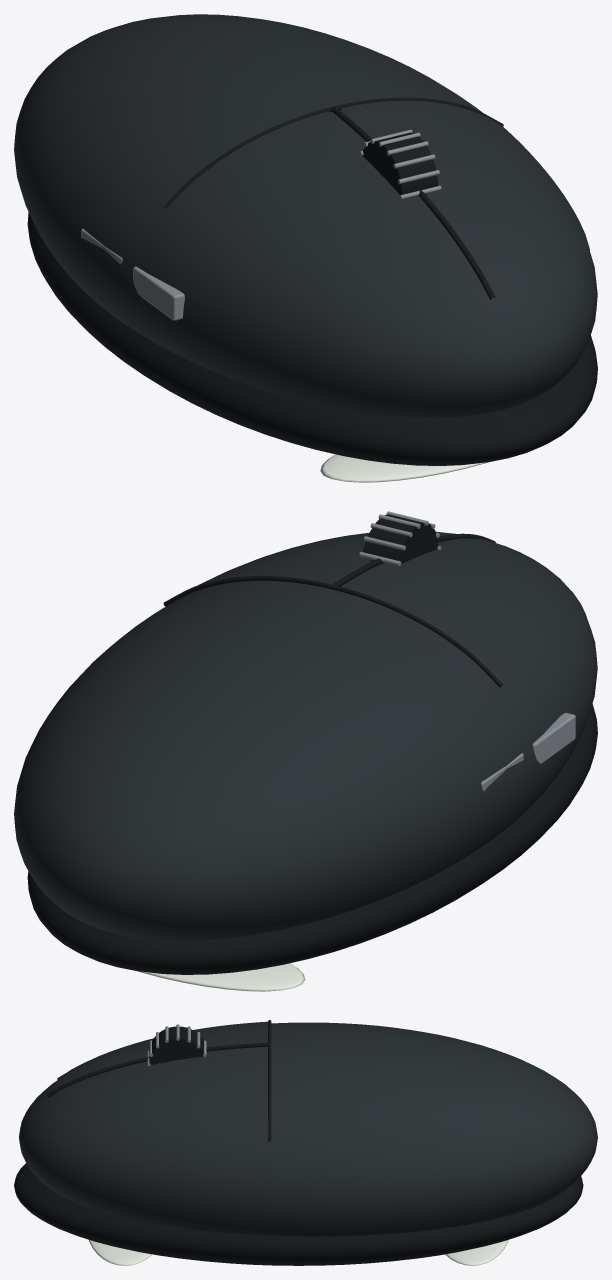
File: mouse.glb
The picture shows the model from 3 angles, top to bottom: view 1: azimuth 30°, elevation 25°; view 2: azimuth 150°, elevation 25°; view 3: azimuth 270°, elevation 25°; orthographic projection. The views are drawn at different scales.
Visible parts, largest first — view 1: Contoured upper shell, Left click button, Lower mouse chassis, Right click button, Rubber scroll wheel, PTFE glide pad, Thumb button, Rear button separation, Central button separation; view 2: Contoured upper shell, Lower mouse chassis, Left click button, Right click button, PTFE glide pad, Rubber scroll wheel, Rear button separation, Thumb button; view 3: Contoured upper shell, Right click button, Lower mouse chassis, Left click button, PTFE glide pad (×2), Rubber scroll wheel, Central button separation, Rear button separation.
Part boxes in pixels (<box>): Contoured upper shell: <box>14,14,597,417</box>; Left click button: <box>167,111,479,339</box>; Lower mouse chassis: <box>27,212,597,465</box>; Right click button: <box>341,100,590,295</box>; Rubber scroll wheel: <box>363,132,438,196</box>; PTFE glide pad: <box>320,454,488,482</box>; Thumb button: <box>133,266,184,320</box>; Rear button separation: <box>164,97,503,208</box>; Central button separation: <box>332,106,495,300</box>; Contoured upper shell: <box>14,561,597,940</box>; Lower mouse chassis: <box>27,704,597,974</box>; Left click button: <box>342,538,590,685</box>; Right click button: <box>199,531,455,584</box>; PTFE glide pad: <box>136,963,305,991</box>; Rubber scroll wheel: <box>363,514,438,564</box>; Rear button separation: <box>163,576,503,687</box>; Thumb button: <box>532,712,575,763</box>; Contoured upper shell: <box>19,1022,597,1236</box>; Right click button: <box>57,1046,269,1174</box>; Lower mouse chassis: <box>14,1163,583,1265</box>; Left click button: <box>57,1021,268,1087</box>; PTFE glide pad (×2): <box>89,1239,508,1265</box>; Rubber scroll wheel: <box>149,1026,203,1064</box>; Central button separation: <box>46,1042,269,1097</box>; Rear button separation: <box>268,1020,271,1141</box>.
Size of the model in its own units: 0.068 by 0.0459 by 0.121.
Materials: 2 (2 with a texture image).
